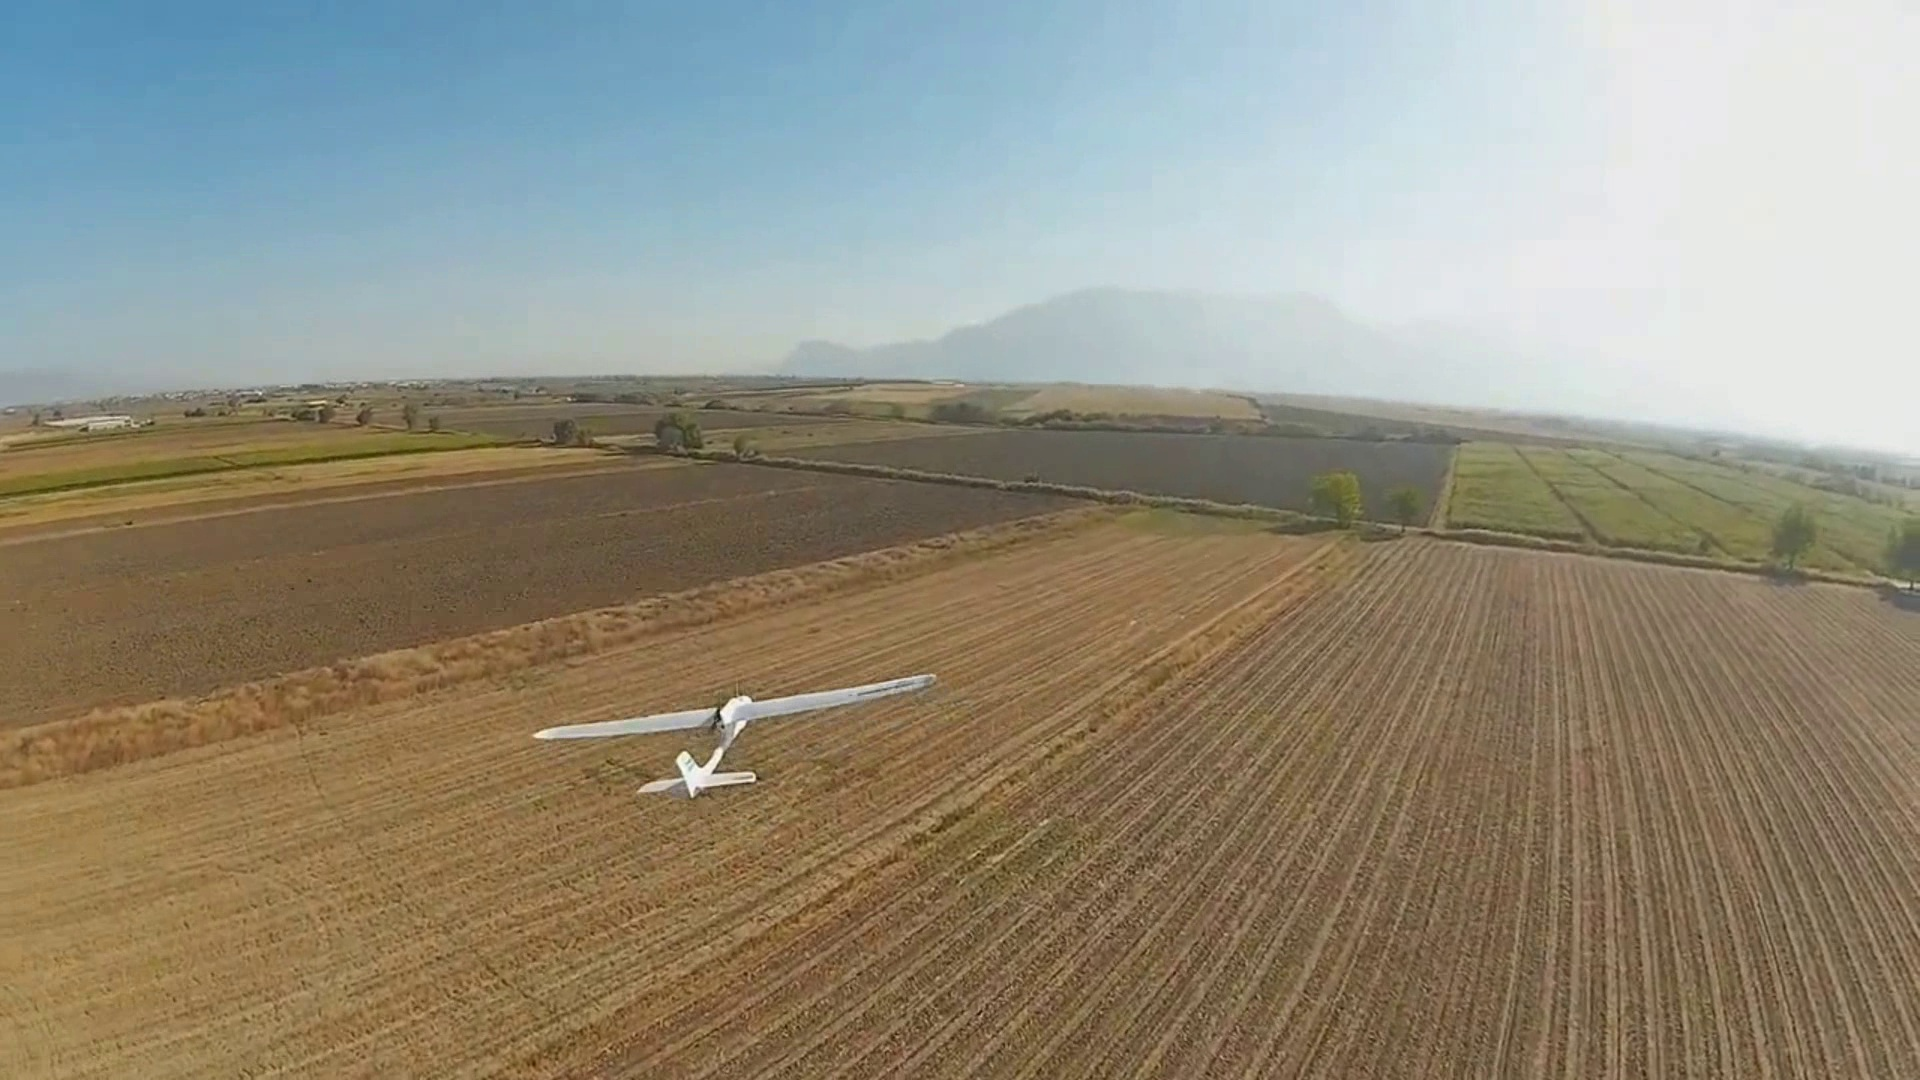airplane: (531, 673, 936, 800)
